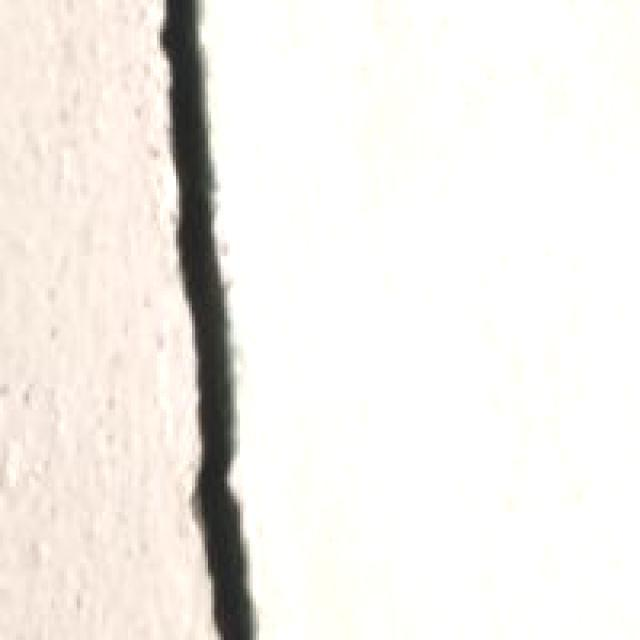crack: (134, 0, 312, 640)
